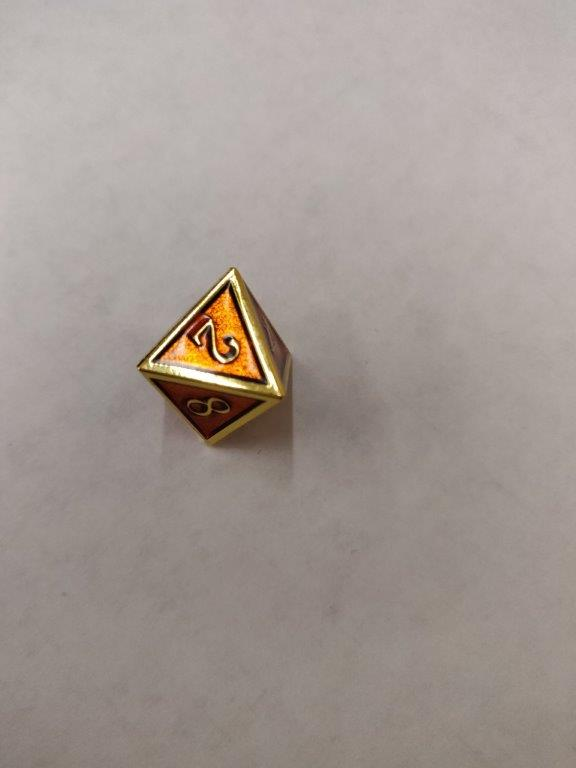d8-2: (134, 269, 291, 448)
